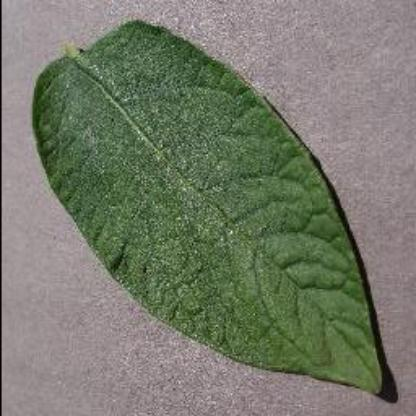Healthy-plant: (27, 18, 399, 398)
